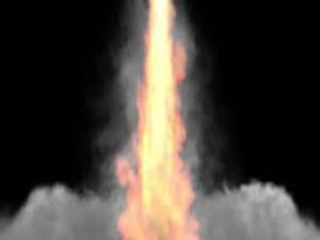fire: (114, 1, 205, 238)
smoke: (223, 167, 314, 238), (16, 167, 108, 237)
